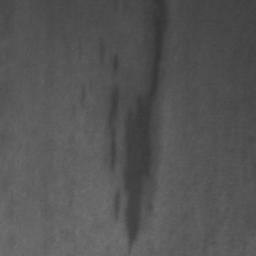Inclusion: (122, 0, 169, 239)
